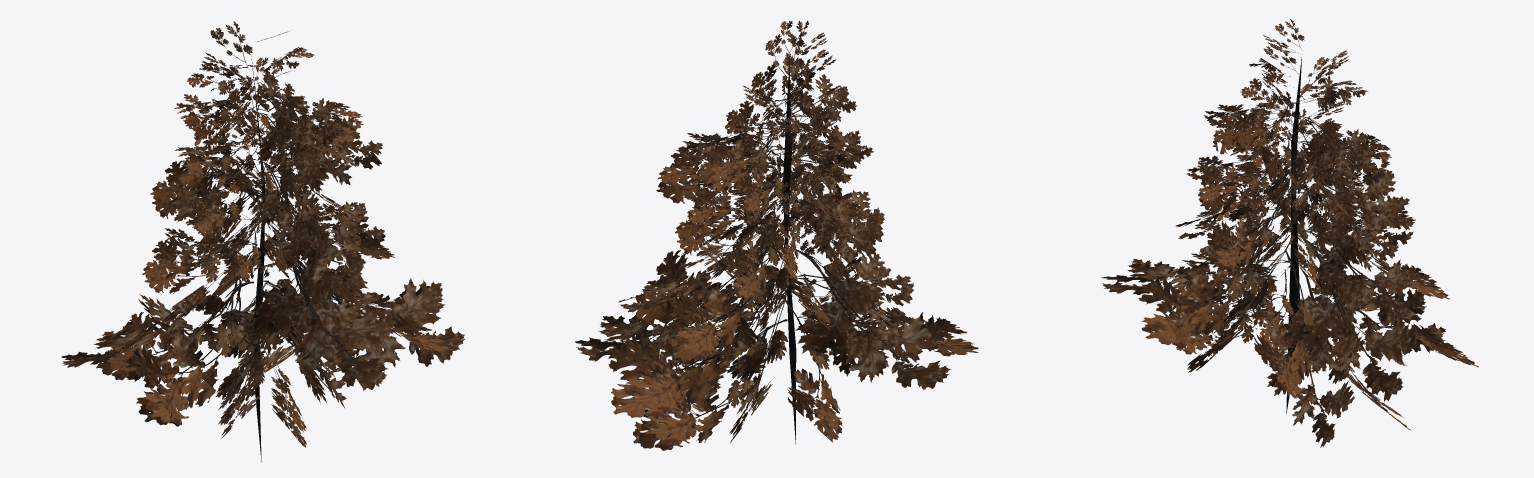
Rendered from spruce5 lod2.FBX.
The picture shows the model from 3 angles, left to right: view 1: azimuth 30°, elevation 25°; view 2: azimuth 150°, elevation 25°; view 3: azimuth 270°, elevation 25°; orthographic projection. The views are drawn at different scales.
Visible parts, largest first — view 1: spruce5_LOD2; view 2: spruce5_LOD2; view 3: spruce5_LOD2.
Boxes of the visible parts, x1=… form: spruce5_LOD2: x1=61, y1=21, x2=464, y2=462; spruce5_LOD2: x1=575, y1=20, x2=978, y2=450; spruce5_LOD2: x1=1101, y1=19, x2=1478, y2=447.
Size of the model in its own units: 130413 by 126472 by 136959.
